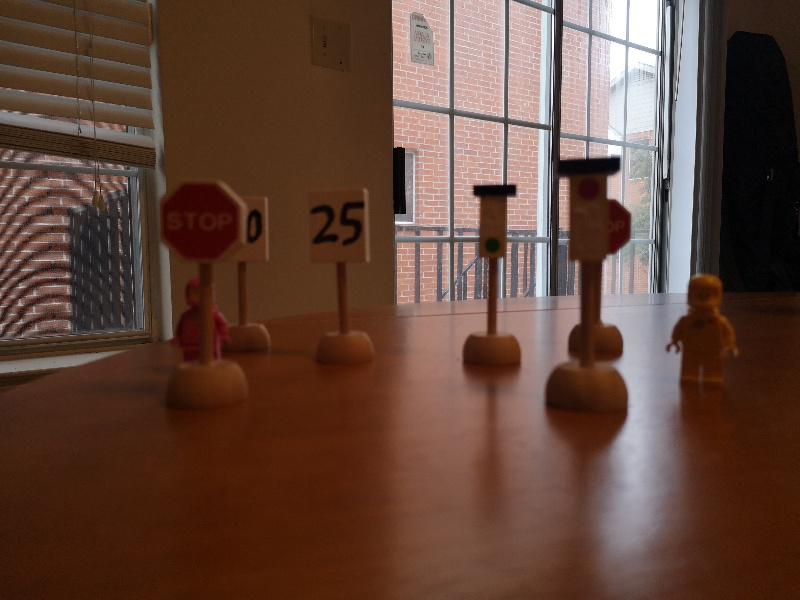Green Traffic Light: (471, 184, 518, 259)
Person: (663, 273, 741, 385), (170, 280, 231, 364)
Red Traffic Light: (553, 158, 617, 261)
Speed Limit 25: (305, 189, 372, 265)
Stop Sign: (157, 178, 246, 265), (607, 199, 632, 256)
